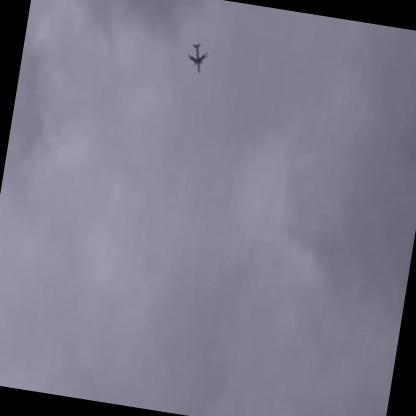plane: (181, 36, 213, 81)
